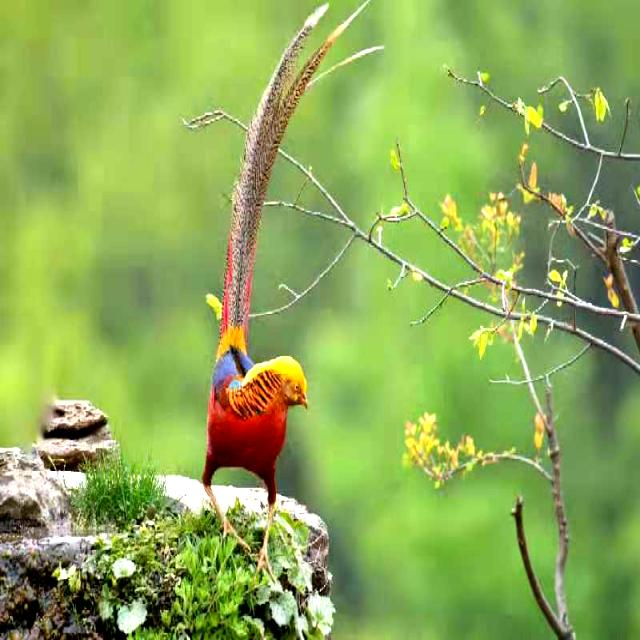Chrysolophus pictus feather: (218, 4, 359, 361)
